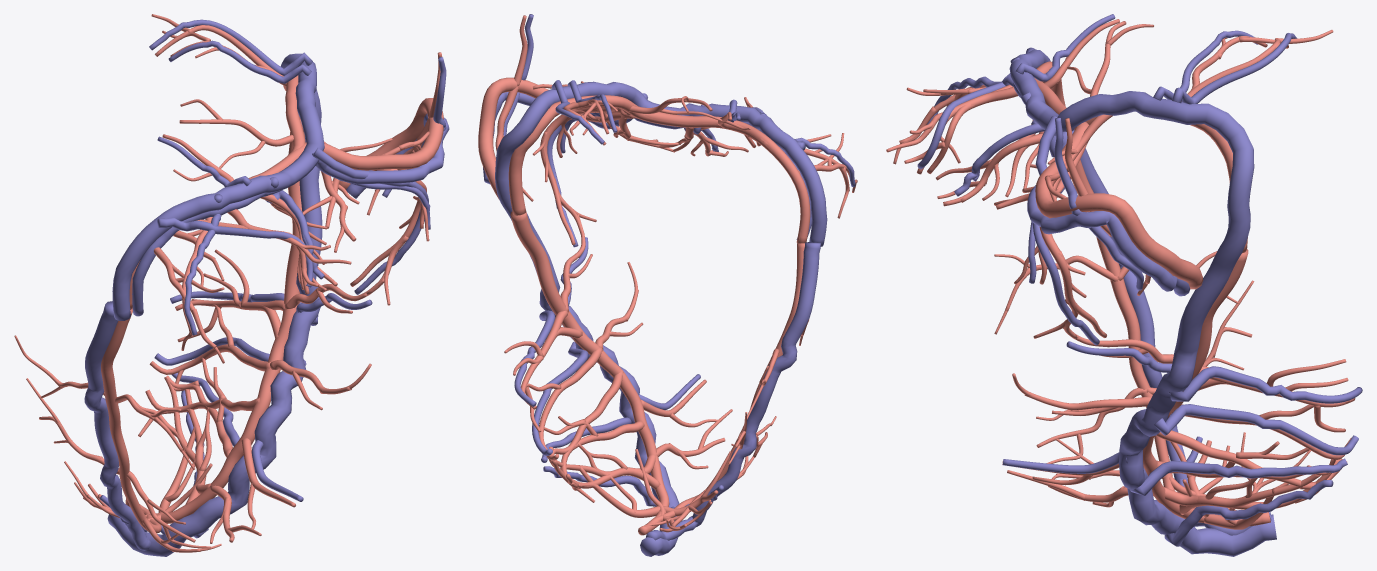
Rendered from vessels_0.glb.
3 renders of one model, left to right at view 1: azimuth 30°, elevation 25°; view 2: azimuth 150°, elevation 25°; view 3: azimuth 270°, elevation 25°, orthographic. The views are drawn at different scales.
Visible parts, largest first — view 1: Renderer Node; view 2: Renderer Node; view 3: Renderer Node.
Part boxes in pixels (x1,y1,x2,y2): Renderer Node: [14, 14, 449, 556]; Renderer Node: [478, 14, 857, 556]; Renderer Node: [886, 14, 1362, 556].
Bounding box in the file's own units: 90.9 × 116 × 89.13.
